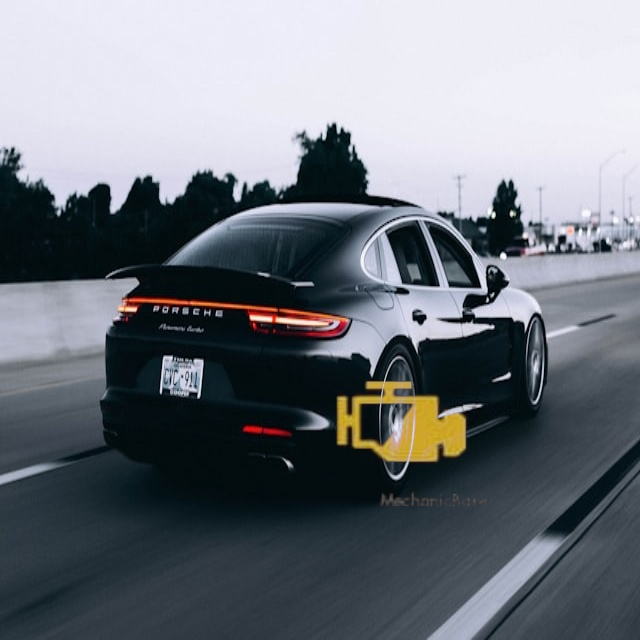symbol: (307, 329, 494, 516)
